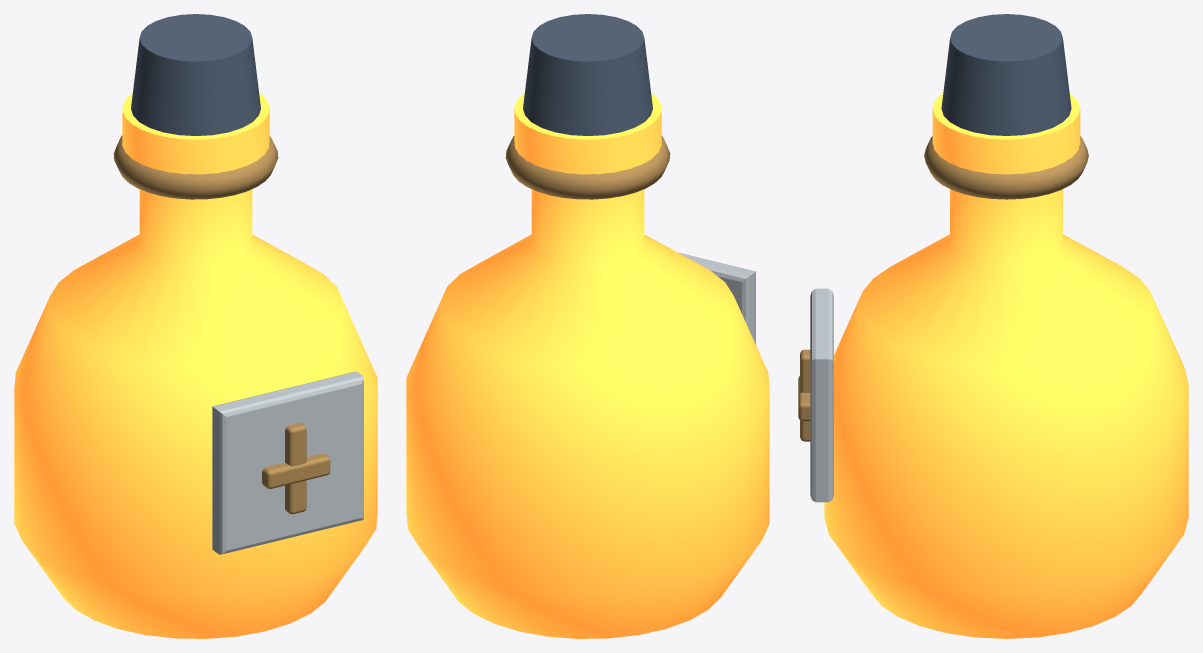
The model's file is moonsteel-convergence-restoration-flask-75c766e8__18201.glb.
The picture shows the model from 3 angles, left to right: view 1: azimuth 30°, elevation 25°; view 2: azimuth 150°, elevation 25°; view 3: azimuth 270°, elevation 25°; orthographic projection.
Visible parts, largest first — view 1: restoration-flask; view 2: restoration-flask; view 3: restoration-flask.
Part boxes in pixels (box(x1,y1,x2,y2)): restoration-flask: box(14, 14, 377, 638); restoration-flask: box(406, 14, 769, 638); restoration-flask: box(798, 14, 1188, 638).
Size of the model in its own units: 0.42 by 0.69 by 0.45.
